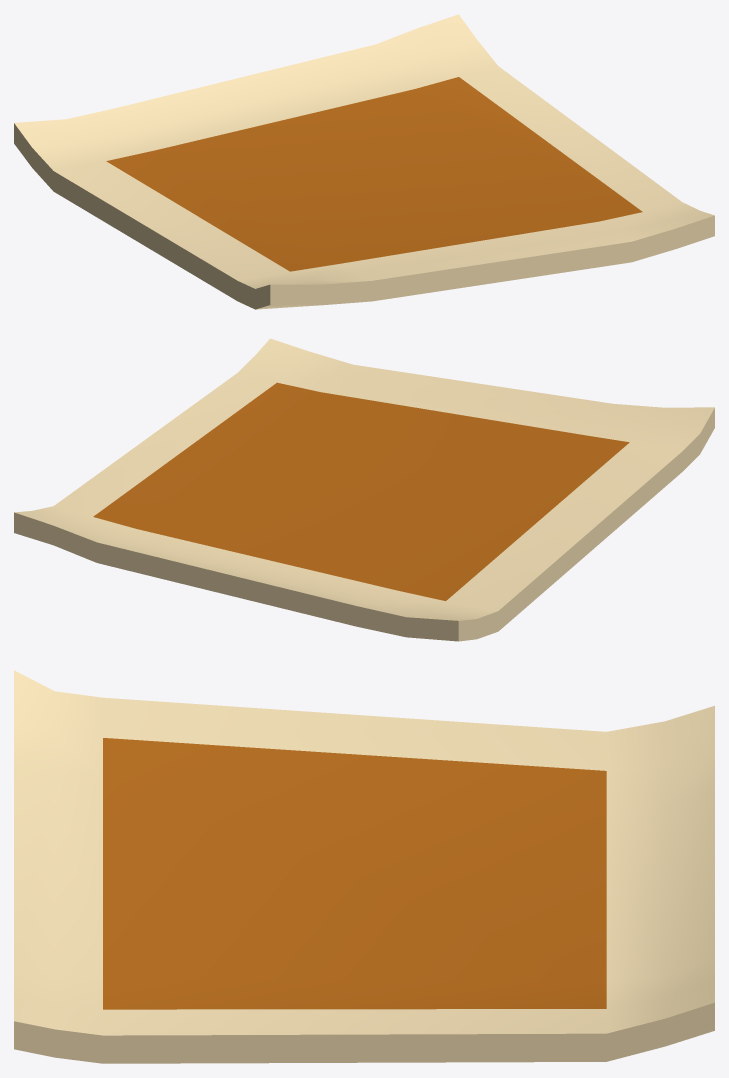
File: foto.FBX
The picture shows the model from 3 angles, top to bottom: view 1: azimuth 30°, elevation 25°; view 2: azimuth 150°, elevation 25°; view 3: azimuth 270°, elevation 25°; orthographic projection. The views are drawn at different scales.
Parts seen in each view (by area): view 1: Box002; view 2: Box002; view 3: Box002.
Part boxes in pixels (left/top/right/bottom): Box002: left=14, top=14, right=714, bottom=309; Box002: left=14, top=338, right=714, bottom=641; Box002: left=14, top=670, right=714, bottom=1063.
Bounding box in the file's own units: 13.67 × 2.11 × 13.64.
